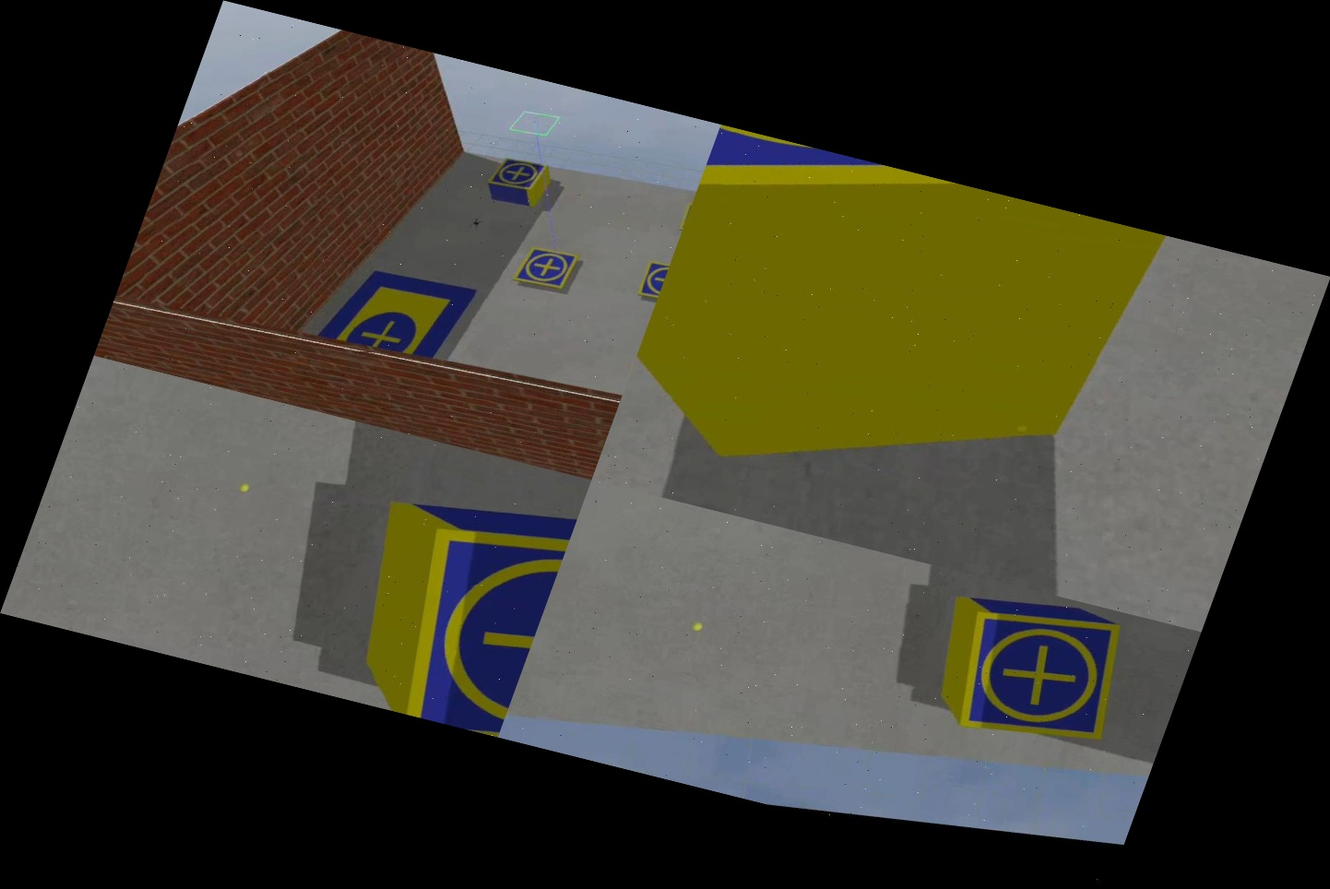large_base: (303, 246, 493, 381)
small_base: (681, 124, 1191, 351), (369, 492, 576, 737), (933, 590, 1144, 763), (504, 237, 587, 299), (482, 149, 554, 202), (628, 251, 672, 303)
